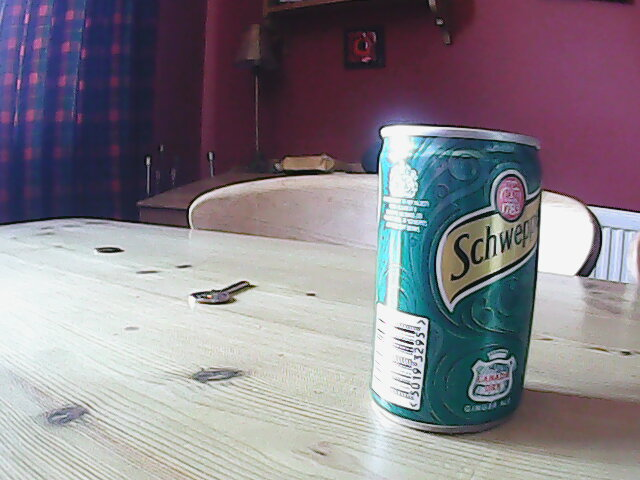Can: (369, 123, 546, 442)
Coin: (95, 245, 125, 256)
Key: (187, 277, 253, 305)
